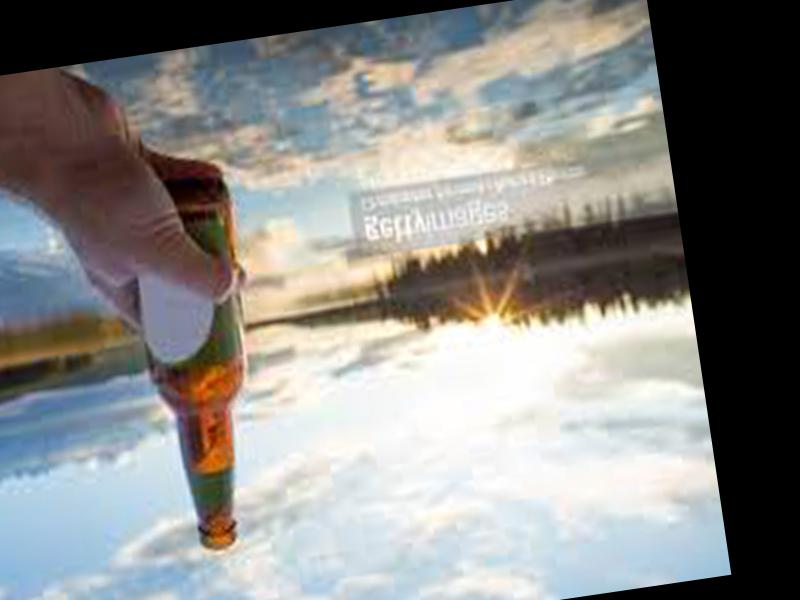Beer: (120, 177, 282, 556)
